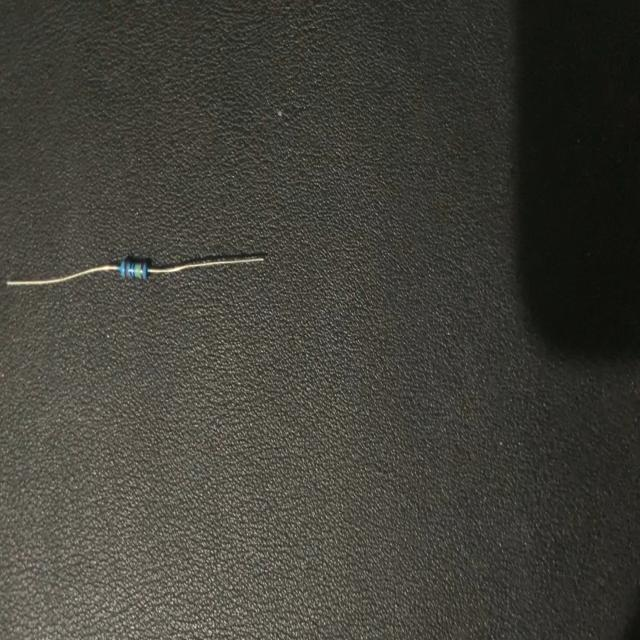resistor: (4, 251, 275, 296)
